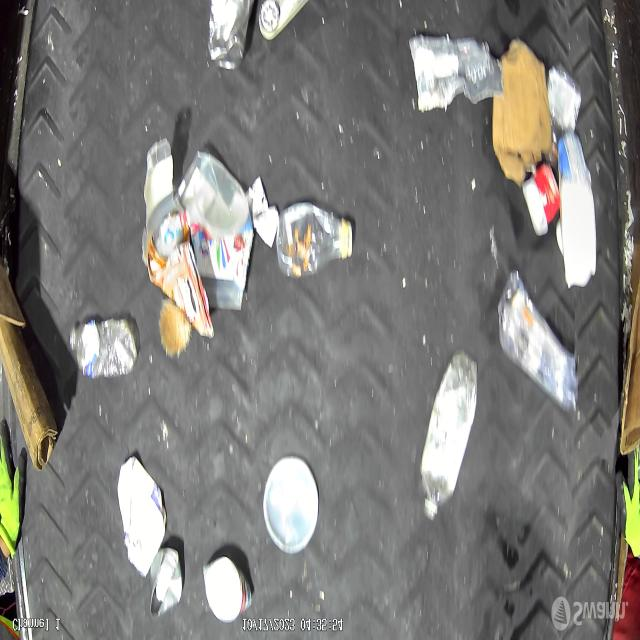can: (208, 2, 255, 72), (150, 545, 184, 621)
plastic_bottle: (497, 270, 579, 416), (419, 348, 480, 524), (274, 200, 355, 280), (70, 315, 140, 377)
